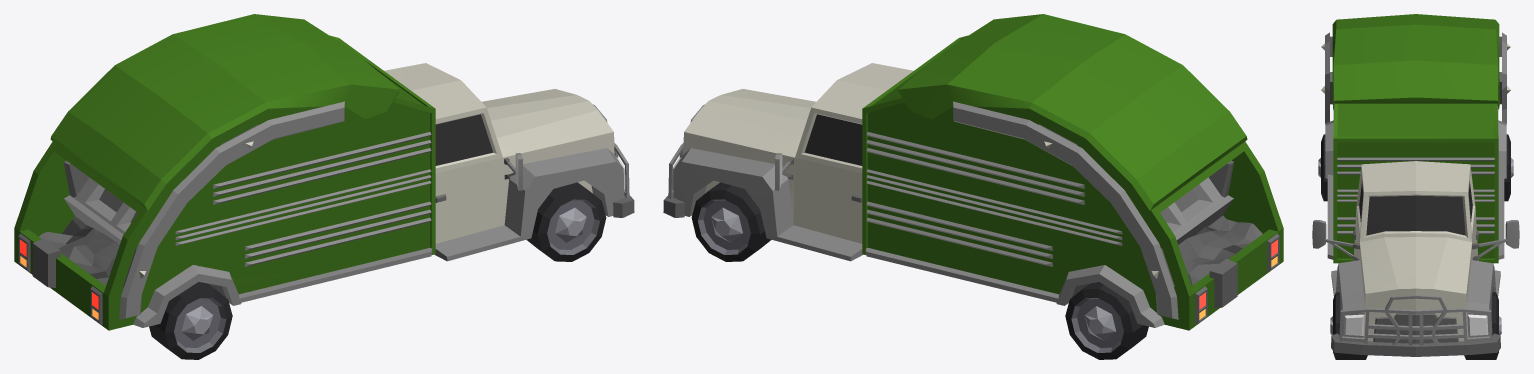
Rendered from car_garbage_2.fbx.
The picture shows the model from 3 angles, left to right: view 1: azimuth 30°, elevation 25°; view 2: azimuth 150°, elevation 25°; view 3: azimuth 270°, elevation 25°; orthographic projection. The views are drawn at different scales.
Parts seen in each view (by area): view 1: car_garbage_2, car_garbage_2_wheels_F, car_garbage_2_wheels_B, car_garbage_trash.001; view 2: car_garbage_2, car_garbage_2_wheels_F, car_garbage_2_wheels_B, car_garbage_trash.001; view 3: car_garbage_2, car_garbage_2_wheels_F, car_garbage_2_wheels_B.
Boxes of the visible parts, x1,y1,x2,y2 form: car_garbage_2: (14, 14, 634, 330); car_garbage_2_wheels_F: (526, 182, 606, 261); car_garbage_2_wheels_B: (149, 282, 232, 359); car_garbage_trash.001: (39, 217, 200, 285); car_garbage_2: (663, 14, 1283, 330); car_garbage_2_wheels_F: (691, 182, 771, 261); car_garbage_2_wheels_B: (1065, 282, 1148, 359); car_garbage_trash.001: (1178, 215, 1262, 285); car_garbage_2: (1312, 14, 1519, 356); car_garbage_2_wheels_F: (1330, 292, 1501, 359); car_garbage_2_wheels_B: (1318, 134, 1513, 201).
Bounding box in the file's own units: 1075 × 452 × 417.
